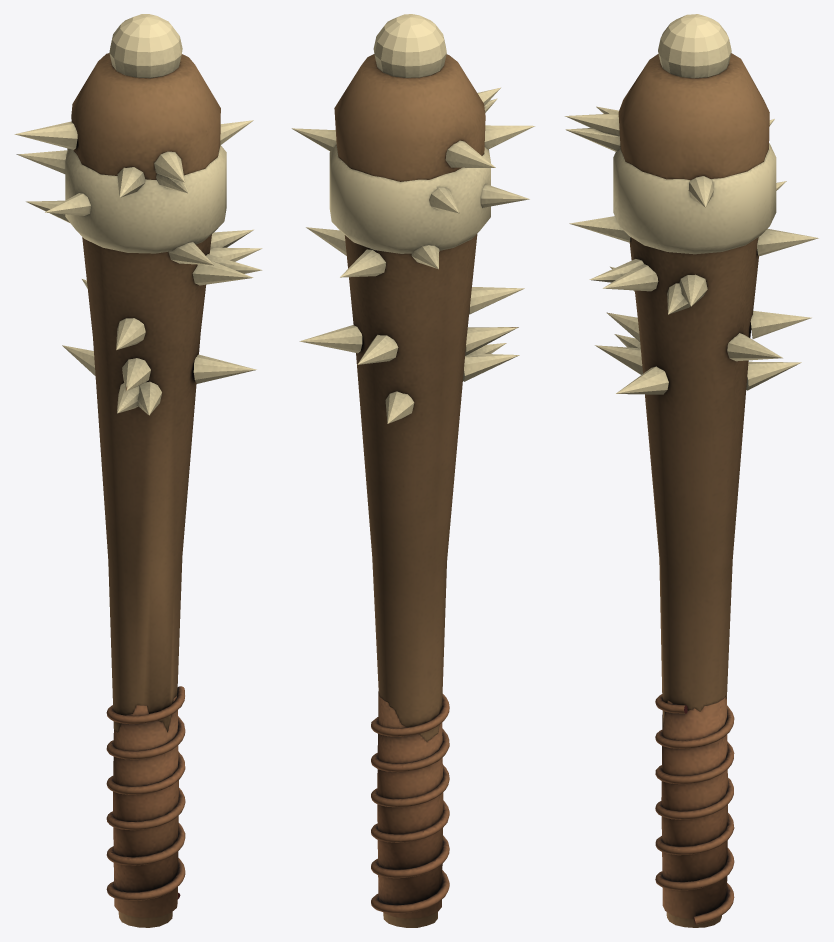
The model's file is arma_clava_excelente.glb.
3 renders of one model, left to right at view 1: azimuth 30°, elevation 25°; view 2: azimuth 150°, elevation 25°; view 3: azimuth 270°, elevation 25°, orthographic.
Parts seen in each view (by area): view 1: arma_clava_excelente; view 2: arma_clava_excelente; view 3: arma_clava_excelente.
Part boxes in pixels (x1,y1,x2,y2): arma_clava_excelente: [14, 14, 262, 927]; arma_clava_excelente: [291, 14, 534, 927]; arma_clava_excelente: [565, 14, 818, 927].
Size of the model in its own units: 0.2106 by 0.8057 by 0.2069.
Materials: 1 (1 with a texture image).
